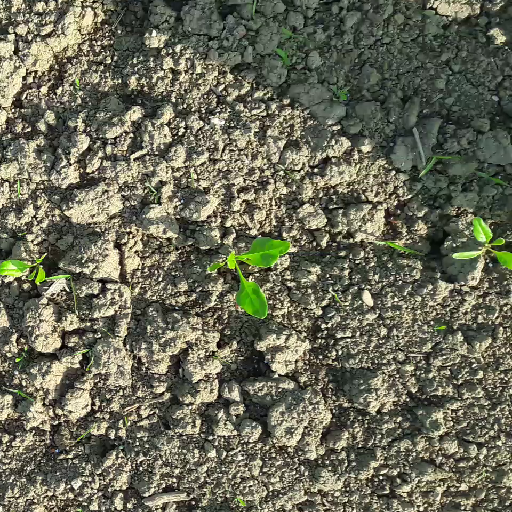sugarbeet: (209, 234, 292, 321), (450, 214, 512, 276), (1, 250, 53, 289)
weed: (417, 152, 512, 189), (43, 273, 85, 316), (375, 238, 428, 258), (2, 384, 37, 406), (325, 82, 348, 103), (280, 24, 308, 41), (272, 48, 292, 68), (13, 346, 33, 363), (435, 321, 455, 334), (234, 494, 248, 509), (74, 75, 81, 90)
